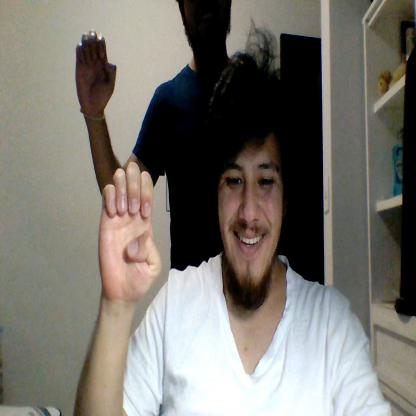E: (98, 162, 162, 302), (75, 31, 117, 110)
